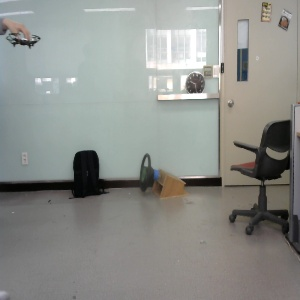Drone: (1, 18, 43, 51)
